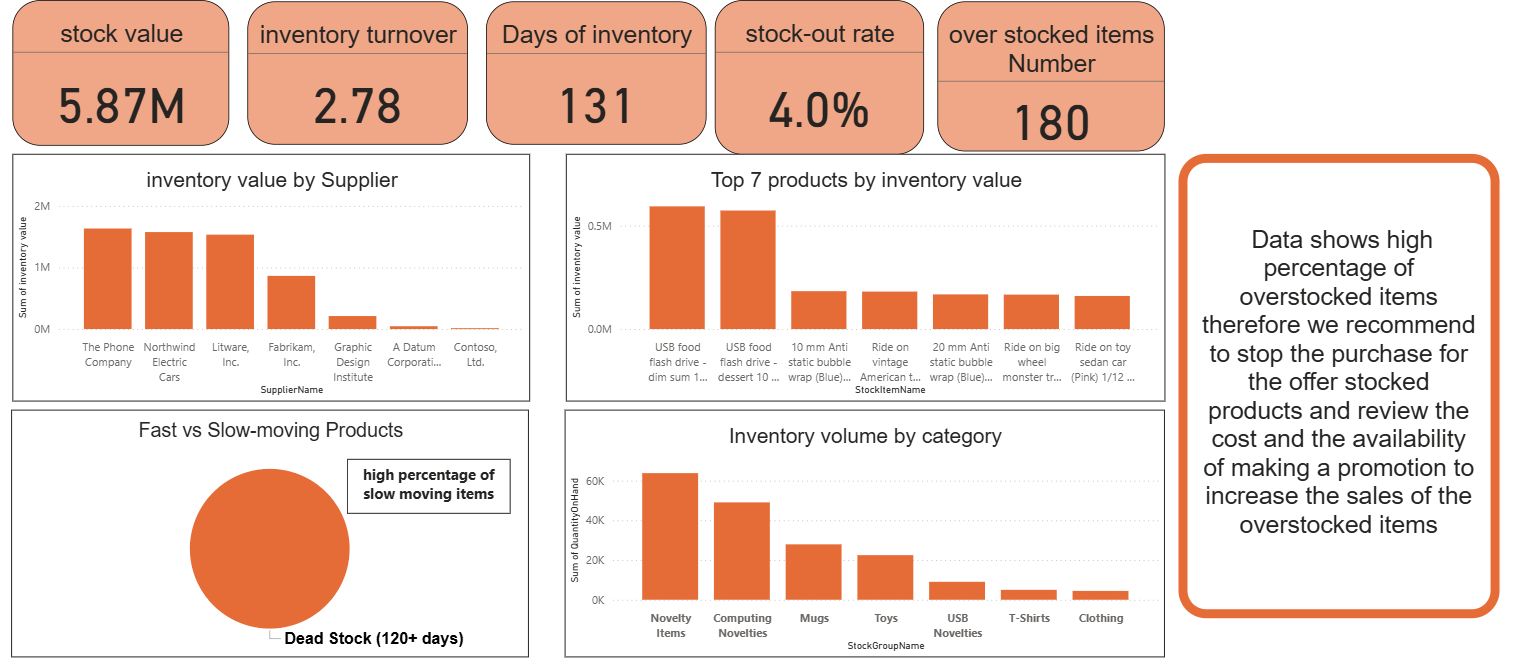

The dashboard page shown, as its layout file describes it:
{"tool":"powerbi","page":{"name":"inventory dashboard","canvas":[1680,780],"ordinal":1},"visuals":[{"type":"card","title":"stock value ","fields":{"Values":["Sum(quantity on Hand.inventory value)"]},"box":[19.4,6.1,235.2,157.6],"z":0},{"type":"card","title":"inventory turnover","fields":{"Values":["Sheet1.inv turnover 2024"]},"box":[275.2,8.5,238.8,155.2],"z":1000},{"type":"card","title":"Days of inventory","fields":{"Values":["Sheet1.days of inventory 2024"]},"box":[533.4,8.5,238.8,155.2],"z":2000},{"type":"card","title":"stock-out rate","fields":{"Values":["Sheet1.stockout rate"]},"box":[780.7,6.1,226.7,167.3],"z":3000},{"type":"card","title":"over stocked items Number  ","fields":{"Values":["Sheet1.Overstocked Item Count 6M Clear Logic"]},"box":[1023.1,8.5,246.1,162.4],"z":4000},{"type":"clusteredColumnChart","title":"inventory value by Supplier","fields":{"Category":["quantity on Hand.SupplierName"],"Y":["Sum(quantity on Hand.inventory value)"]},"box":[19.4,173.4,561.3,267.9],"z":5000},{"type":"columnChart","title":"Top 7 products by inventory value ","fields":{"Category":["quantity on Hand.StockItemName"],"Y":["Sum(quantity on Hand.inventory value)"]},"box":[619.5,173.4,649.8,267.9],"z":6000},{"type":"pieChart","title":"Fast vs Slow-moving Products ","fields":{"Y":["CountNonNull(quantity on Hand.StockItemName)"],"Category":["quantity on Hand.\"Aging Category\""]},"box":[19,451,561,268],"z":7000},{"type":"columnChart","title":"Inventory volume by category","fields":{"Category":["catigories of the items.StockGroupName"],"Y":["Sum(quantity on Hand.QuantityOnHand)"]},"box":[619,451,650,268],"z":8000},{"type":"textbox","box":[382.9,504.3,177.4,59.1],"z":9000},{"type":"textbox","box":[1284.4,173.9,347.7,502.9],"z":10000}]}

Visuals, with their boxes on the page's 1680x780 design canvas (x1, y1, x2, y2). These are canvas units, not pixel positions in the 1525x668 screenshot, which may show the page scaled, cropped or inside an application window:
"stock value " card: select_region(19, 6, 255, 164)
"inventory turnover" card: select_region(275, 8, 514, 164)
"Days of inventory" card: select_region(533, 8, 772, 164)
"stock-out rate" card: select_region(781, 6, 1007, 173)
"over stocked items Number  " card: select_region(1023, 8, 1269, 171)
"inventory value by Supplier" clusteredColumnChart: select_region(19, 173, 581, 441)
"Top 7 products by inventory value " columnChart: select_region(620, 173, 1269, 441)
"Fast vs Slow-moving Products " pieChart: select_region(19, 451, 580, 719)
"Inventory volume by category" columnChart: select_region(619, 451, 1269, 719)
textbox: select_region(383, 504, 560, 563)
textbox: select_region(1284, 174, 1632, 677)
